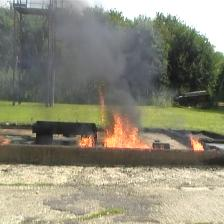fire: (100, 90, 154, 149), (190, 136, 204, 150)
